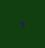nine: (19, 20, 24, 27)
